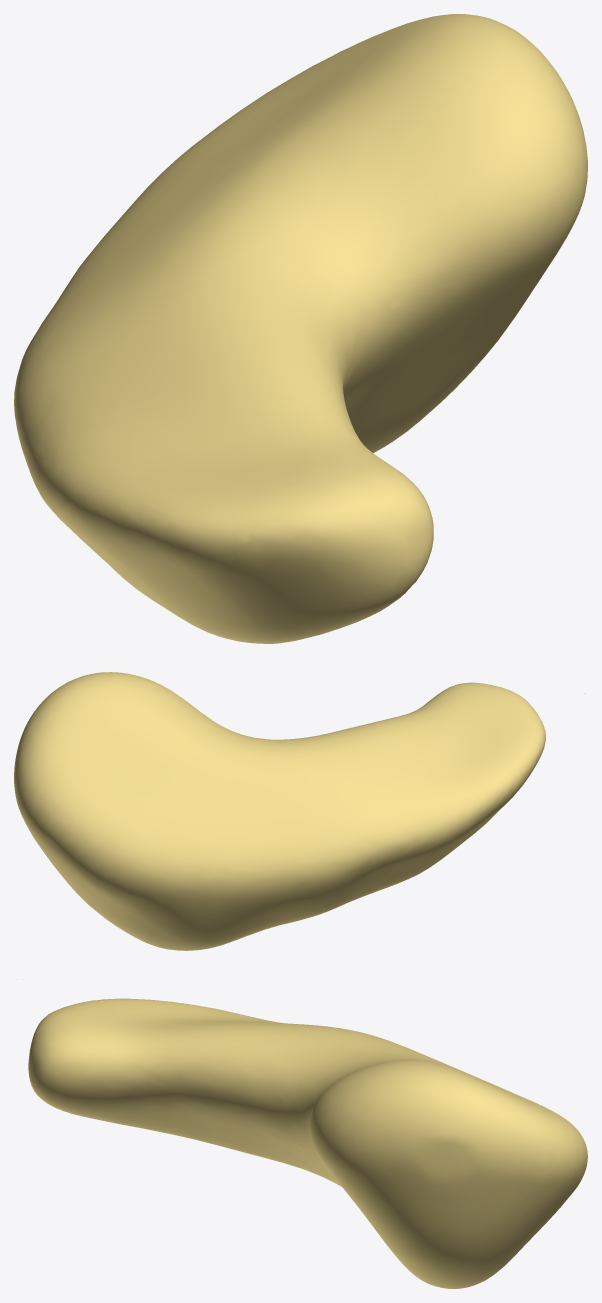
The picture shows the model from 3 angles, top to bottom: view 1: azimuth 30°, elevation 25°; view 2: azimuth 150°, elevation 25°; view 3: azimuth 270°, elevation 25°; orthographic projection. The views are drawn at different scales.
Parts seen in each view (by area): view 1: ZA_b5cc95a77eaac98c; view 2: ZA_b5cc95a77eaac98c; view 3: ZA_b5cc95a77eaac98c.
Boxes of the visible parts, left/top/right/bottom form: ZA_b5cc95a77eaac98c: left=14, top=14, right=587, bottom=643; ZA_b5cc95a77eaac98c: left=14, top=672, right=545, bottom=950; ZA_b5cc95a77eaac98c: left=17, top=979, right=587, bottom=1288.
Size of the model in its own units: 0.0475 by 0.0285 by 0.0582.
